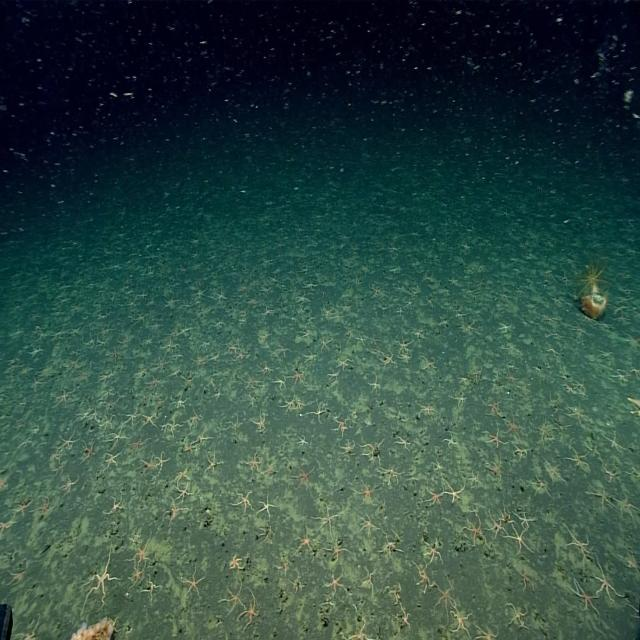brittle-stars: (81, 546, 115, 604), (568, 581, 598, 616), (594, 560, 620, 600), (564, 523, 590, 559), (432, 580, 456, 616), (506, 524, 530, 555), (220, 585, 245, 614), (240, 588, 259, 626), (462, 518, 487, 546), (180, 566, 203, 596), (413, 558, 434, 590), (316, 503, 337, 534), (441, 479, 466, 505), (586, 483, 611, 508), (567, 445, 590, 471), (298, 524, 314, 559), (105, 424, 127, 449), (133, 533, 151, 563), (257, 492, 275, 522), (424, 538, 444, 565), (361, 441, 384, 464), (450, 609, 470, 635), (530, 472, 550, 498), (482, 426, 504, 449), (355, 480, 375, 505), (544, 458, 564, 483), (503, 414, 523, 439), (473, 621, 499, 640), (233, 491, 254, 514), (164, 499, 184, 523), (516, 566, 533, 594), (603, 431, 624, 453), (323, 572, 346, 592), (224, 412, 243, 436), (359, 512, 376, 538), (489, 512, 505, 539), (58, 431, 79, 451), (145, 577, 164, 599), (327, 540, 346, 562), (379, 467, 401, 486), (204, 452, 222, 475), (34, 495, 51, 519), (12, 499, 32, 519), (567, 403, 587, 423), (295, 465, 313, 487), (129, 562, 144, 588), (396, 606, 411, 632), (106, 494, 122, 518), (122, 407, 139, 429), (486, 458, 502, 481), (154, 452, 169, 476), (516, 510, 534, 530), (162, 416, 181, 434), (103, 452, 120, 472), (332, 415, 348, 436), (130, 435, 148, 453), (175, 484, 193, 502), (261, 462, 279, 480), (243, 373, 260, 392), (312, 400, 326, 423), (172, 392, 188, 412), (426, 485, 442, 505), (193, 349, 208, 370), (142, 453, 154, 479), (61, 476, 78, 494), (173, 470, 190, 488), (513, 442, 531, 459), (396, 434, 413, 452), (274, 341, 291, 359), (395, 334, 411, 353), (418, 400, 434, 419), (99, 412, 113, 433), (379, 350, 395, 368), (82, 440, 96, 460), (56, 388, 70, 408), (246, 452, 260, 472), (252, 411, 266, 431), (281, 394, 295, 414), (368, 373, 381, 394), (141, 413, 157, 430), (98, 386, 115, 402), (341, 438, 356, 456), (230, 552, 244, 571), (443, 431, 457, 450), (178, 320, 191, 340), (303, 349, 319, 365), (162, 338, 178, 354), (498, 320, 513, 337), (453, 391, 467, 409), (30, 375, 45, 391), (336, 357, 352, 372), (422, 356, 438, 371), (504, 340, 519, 356), (291, 368, 305, 385), (155, 355, 168, 373), (319, 334, 331, 353), (295, 292, 310, 306), (97, 371, 112, 385), (147, 373, 159, 390), (339, 298, 351, 315), (0, 518, 14, 532), (398, 351, 412, 365), (296, 434, 309, 449), (488, 400, 500, 416), (506, 367, 517, 384), (183, 441, 197, 454), (235, 346, 248, 360), (304, 277, 317, 291), (273, 377, 287, 390), (261, 307, 275, 320), (166, 294, 177, 310), (49, 452, 62, 462)
